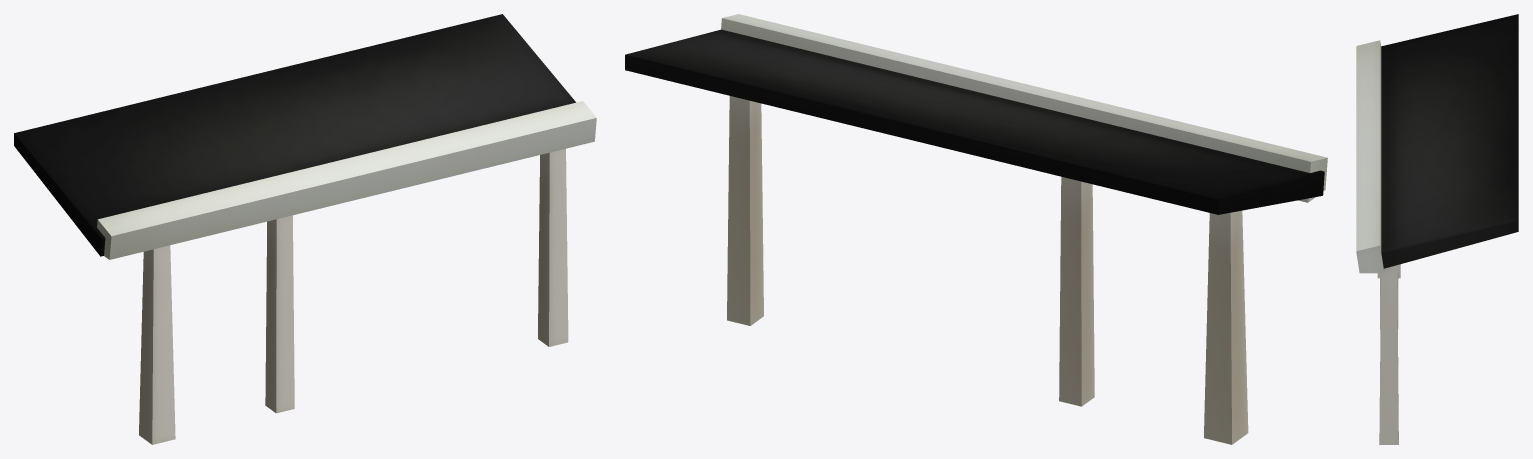
File: B11Broke02.FBX
3 views of the same model, side by side, from view 1: azimuth 30°, elevation 25°; view 2: azimuth 150°, elevation 25°; view 3: azimuth 270°, elevation 25° (orthographic). The views are drawn at different scales.
Parts seen in each view (by area): view 1: B11Broke02; view 2: B11Broke02; view 3: B11Broke02.
Boxes of the visible parts, bbox=[...] form: B11Broke02: bbox=[14, 14, 596, 444]; B11Broke02: bbox=[625, 14, 1327, 444]; B11Broke02: bbox=[1356, 14, 1518, 444].
Size of the model in its own units: 49.58 by 25.77 by 16.48.
